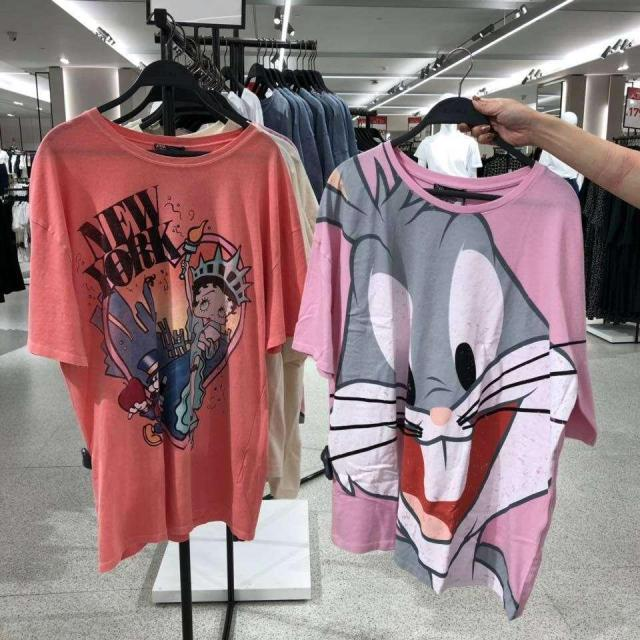Tshirt: (306, 116, 612, 616), (20, 102, 317, 561)
